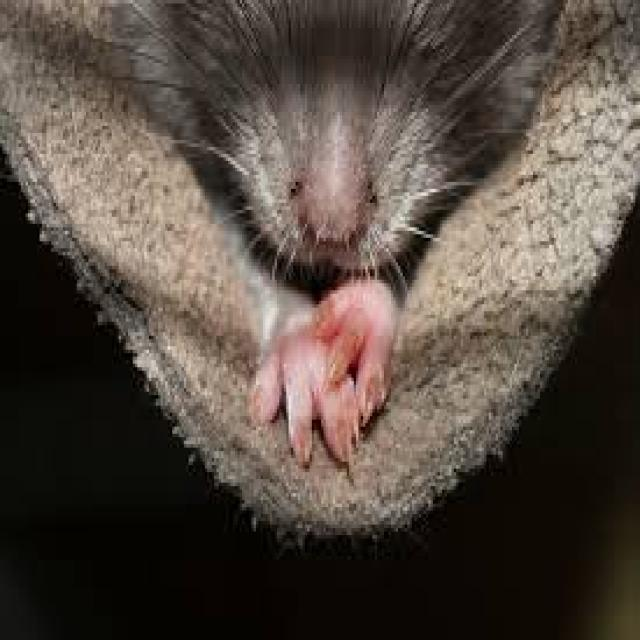rat: (0, 0, 570, 476)
